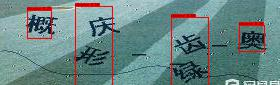chinese: (74, 43, 116, 71), (169, 61, 211, 83), (174, 31, 208, 58), (239, 28, 270, 55), (26, 11, 54, 39), (89, 15, 120, 38)
